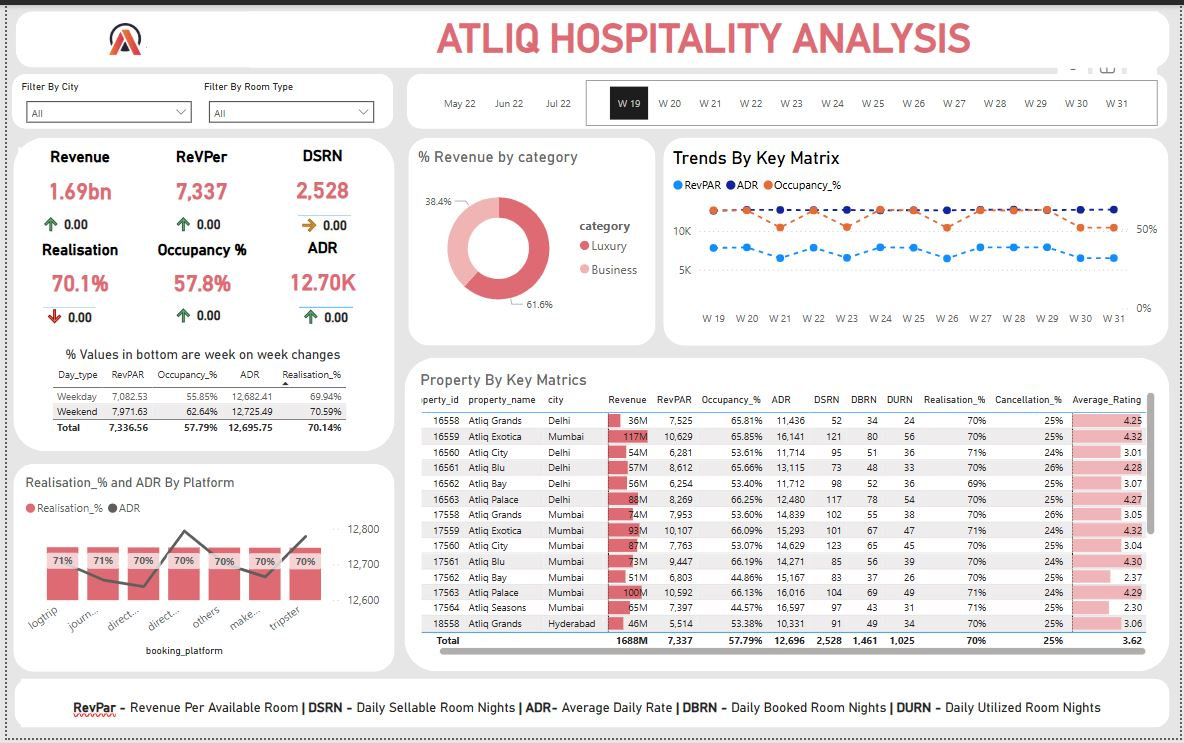

Layout of this report page (visuals, bound fields, positions):
{"tool":"powerbi","page":{"name":"Page 1","canvas":[1280,800],"ordinal":0},"visuals":[{"type":"shape","box":[9.5,6.8,1258.4,61.4],"z":0},{"type":"shape","box":[8.2,734.8,1259.7,53.2],"z":1000},{"type":"shape","box":[432.9,384.9,834.4,342.3],"z":2000},{"type":"shape","box":[716.3,144.4,550.9,227],"z":3000},{"type":"shape","box":[437.8,144.4,269.9,227],"z":4000},{"type":"shape","box":[436.7,75.3,829.5,60.1],"z":5000},{"type":"shape","box":[6,75.3,416,60.1],"z":6000},{"type":"shape","box":[7.1,144.4,416,342.3],"z":7000},{"type":"tableEx","title":".","fields":{"Values":["Key_measures.Occupancy_WoW_change_%"]},"box":[172.5,303.9,79.8,50.3],"z":8000},{"type":"tableEx","title":".","fields":{"Values":["Key_measures.Revpar_WoW_change_%"]},"box":[172.7,204.3,79.8,50],"z":9000},{"type":"tableEx","title":".","fields":{"Values":["Key_measures.Realisation_WoW_change_%"]},"box":[32.6,305.1,81,49.1],"z":10000},{"type":"tableEx","title":".","fields":{"Values":["Key_measures.ADR_WoW_change_%"]},"box":[312.4,305.1,79.8,50],"z":11000},{"type":"tableEx","title":".","fields":{"Values":["Key_measures.DSRN_WoW_change_%"]},"box":[311.4,205.5,79.8,50.3],"z":12000},{"type":"card","title":"ReVPer","fields":{"Values":["Key_measures.RevPAR"]},"box":[147,155.4,130.1,74.8],"z":13000},{"type":"card","title":"DSRN","fields":{"Values":["Key_measures.DSRN"]},"box":[277,154.2,135,74.8],"z":14000},{"type":"card","title":"Occupancy %","fields":{"Values":["Key_measures.Occupancy_%"]},"box":[147,256,131.3,73.6],"z":15000},{"type":"card","title":"ADR","fields":{"Values":["Key_measures.ADR"]},"box":[277,254.8,135,73.6],"z":16000},{"type":"card","title":"Realisation","fields":{"Values":["Key_measures.Realisation_%"]},"box":[12,256,135,73.6],"z":17000},{"type":"tableEx","title":"Property By Key Matrics","fields":{"Values":["Dim_hotels.property_id","Dim_hotels.property_name","Dim_hotels.city","Key_measures.Revenue","Key_measures.RevPAR","Key_measures.Occupancy_%","Key_measures.ADR","Key_measures.DSRN","Key_measures.DBRN","Key_measures.DURN","Key_measures.Realisation_%","Key_measures.Cancellation_%"]},"box":[446.4,398.4,811,316.6],"z":18000},{"type":"slicer","title":"Filter By City","fields":{"Values":["Dim_hotels.city"]},"box":[10.9,81.4,200,50],"z":19000},{"type":"slicer","title":"Filter By Room Type","fields":{"Values":["Dim_rooms.room_class"]},"box":[209.7,81.4,200,50.3],"z":20000},{"type":"slicer","title":"Filter By Months","fields":{"Values":["Dim_date.mmm yy"]},"box":[441.6,81.4,209.8,50.3],"z":21000},{"type":"slicer","title":"Filter By Months","fields":{"Values":["Dim_date.week no"]},"box":[631.8,81.4,624.5,50.3],"z":22000},{"type":"donutChart","title":"% Revenue by category","fields":{"Category":["Dim_hotels.category"],"Y":["Key_measures.Revenue"]},"box":[442.7,155.4,260.1,201.2],"z":23000},{"type":"tableEx","title":".","fields":{"Values":["Key_measures.Revenue_WoW_change_%"]},"box":[29.2,204.3,79.8,50],"z":24000},{"type":"lineChart","title":"Trends By Key Matrix","fields":{"Category":["Dim_date.mmm yy.Variation.Date Hierarchy.Month","Dim_date.week no"],"Y":["Key_measures.RevPAR","Key_measures.ADR"],"Y2":["Key_measures.Occupancy_%"]},"box":[720.9,155.9,538.8,203.8],"z":25000},{"type":"card","title":"Revenue","fields":{"Values":["Key_measures.Revenue"]},"box":[12,155.4,135,74.8],"z":26000},{"type":"shape","box":[7.1,500.2,416,227],"z":27000},{"type":"lineStackedColumnComboChart","title":"Realisation_% and ADR By Platform","fields":{"Category":["Fact_Bookings.booking_platform"],"Y":["Key_measures.Realisation_%"],"Y2":["Key_measures.ADR"]},"box":[14.7,512.2,396.2,202.5],"z":28000},{"type":"tableEx","title":"% Values in bottom are week on week changes","fields":{"Values":["Dim_date.Day_type","Key_measures.RevPAR","Key_measures.Occupancy_%","Key_measures.ADR","Key_measures.Realisation_%"]},"box":[43.4,372.2,340,102.5],"z":29000},{"type":"textbox","box":[15,734.8,1235.2,53.2],"z":30000},{"type":"image","box":[28.6,7.4,196.3,61.4],"z":31000},{"type":"textbox","box":[264.5,6.8,991.1,61.4],"z":32000}]}

Visuals, with their boxes in screenshot pixels (x1, y1, x2, y2), scaled from the page's 1280x800 canvas onto the 1184x743 screenshot:
shape: detection(9, 6, 1173, 63)
shape: detection(8, 682, 1173, 732)
shape: detection(400, 357, 1172, 675)
shape: detection(663, 134, 1172, 345)
shape: detection(405, 134, 655, 345)
shape: detection(404, 70, 1171, 126)
shape: detection(6, 70, 390, 126)
shape: detection(7, 134, 391, 452)
"." tableEx: detection(160, 282, 233, 329)
"." tableEx: detection(160, 190, 234, 236)
"." tableEx: detection(30, 283, 105, 329)
"." tableEx: detection(289, 283, 363, 330)
"." tableEx: detection(288, 191, 362, 238)
"ReVPer" card: detection(136, 144, 256, 214)
"DSRN" card: detection(256, 143, 381, 213)
"Occupancy %" card: detection(136, 238, 257, 306)
"ADR" card: detection(256, 237, 381, 305)
"Realisation" card: detection(11, 238, 136, 306)
"Property By Key Matrics" tableEx: detection(413, 370, 1163, 664)
"Filter By City" slicer: detection(10, 76, 195, 122)
"Filter By Room Type" slicer: detection(194, 76, 379, 122)
"Filter By Months" slicer: detection(408, 76, 603, 122)
"Filter By Months" slicer: detection(584, 76, 1162, 122)
"% Revenue by category" donutChart: detection(409, 144, 650, 331)
"." tableEx: detection(27, 190, 101, 236)
"Trends By Key Matrix" lineChart: detection(667, 145, 1165, 334)
"Revenue" card: detection(11, 144, 136, 214)
shape: detection(7, 465, 391, 675)
"Realisation_% and ADR By Platform" lineStackedColumnComboChart: detection(14, 476, 380, 664)
"% Values in bottom are week on week changes" tableEx: detection(40, 346, 355, 441)
textbox: detection(14, 682, 1156, 732)
image: detection(26, 7, 208, 64)
textbox: detection(245, 6, 1161, 63)
